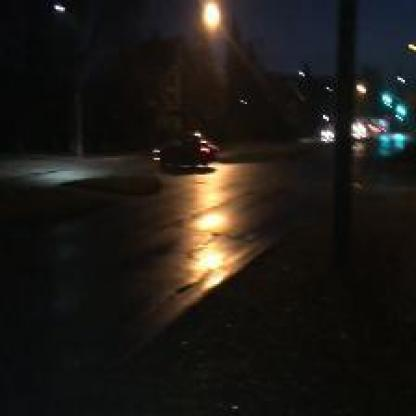other: (191, 181, 230, 281), (181, 1, 224, 43)
